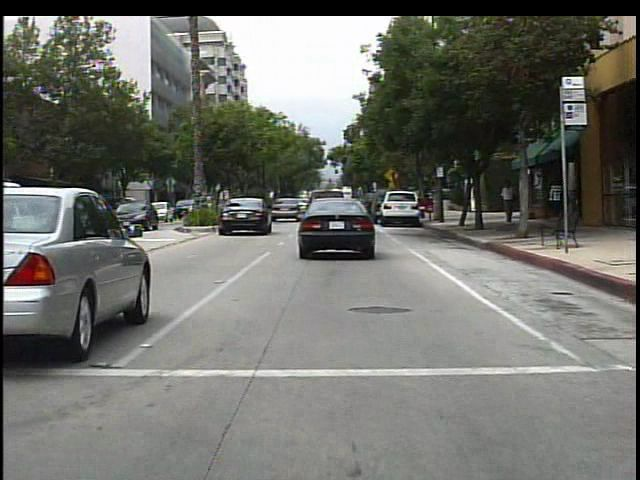person: (498, 181, 519, 227)
